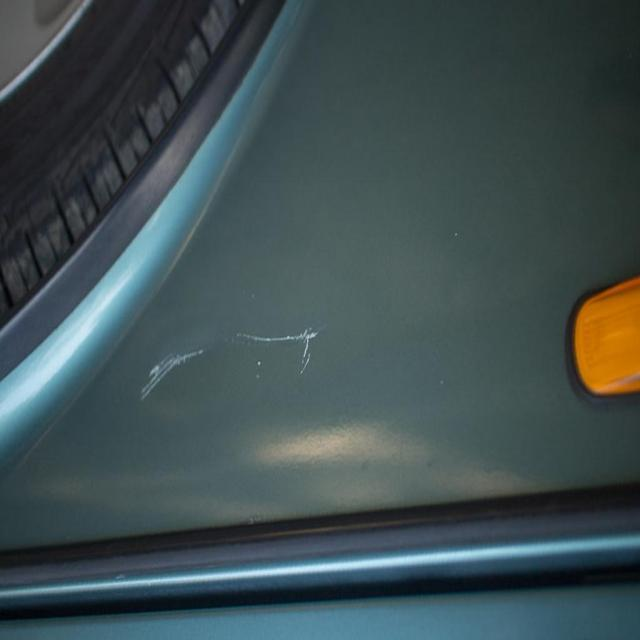scratch: (115, 312, 333, 409)
